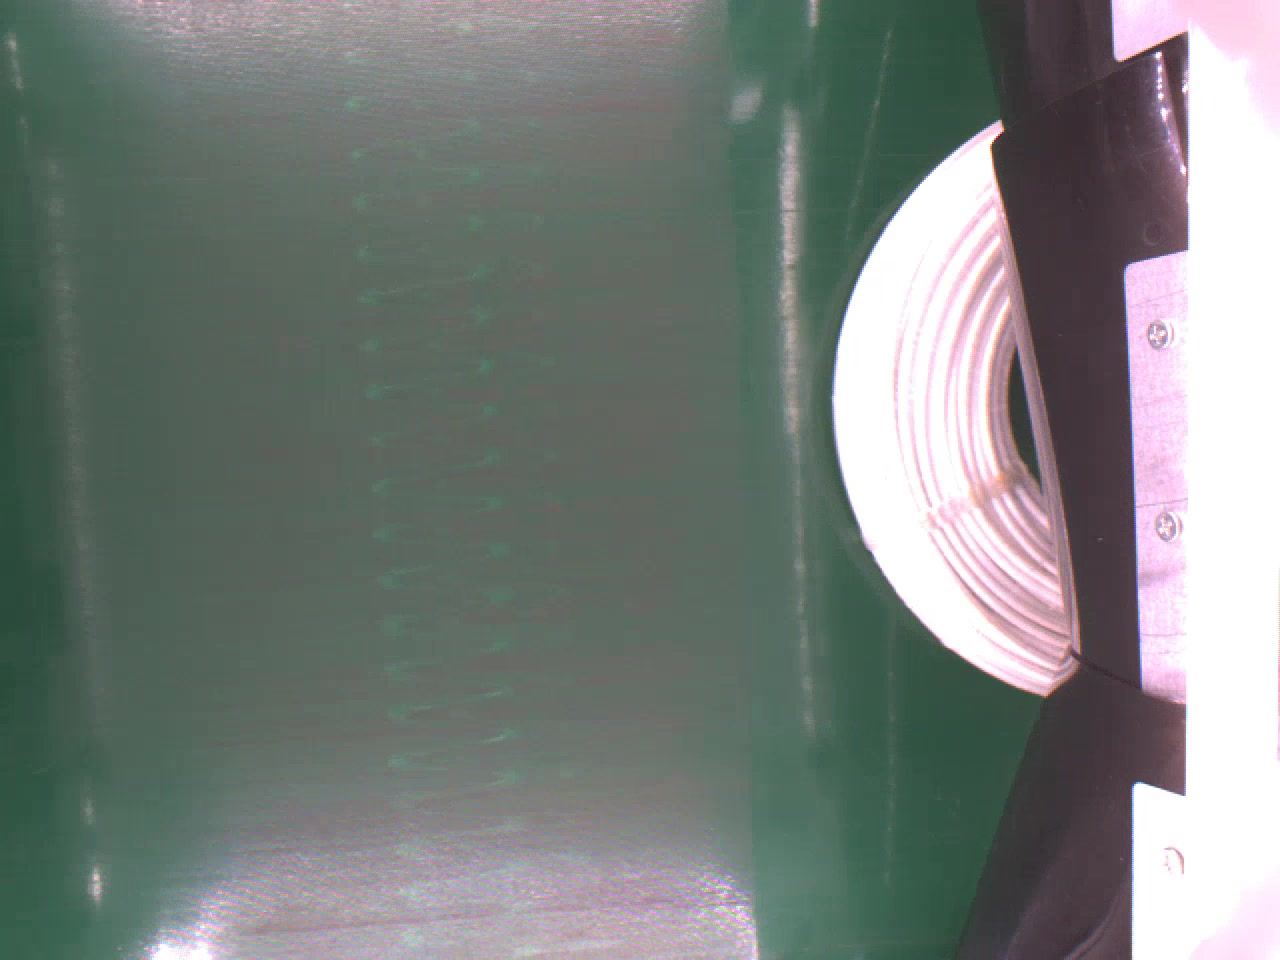white: (829, 115, 1067, 695)
